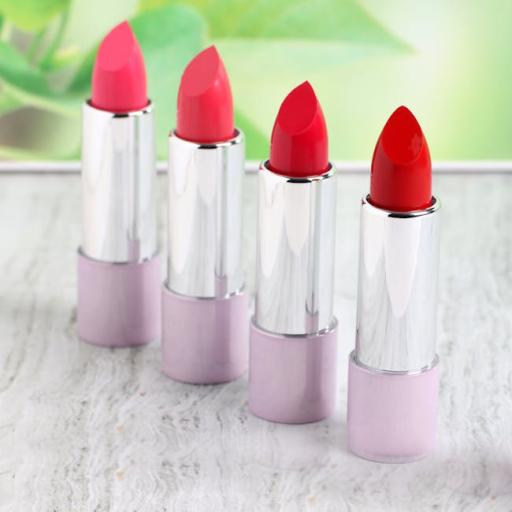lipstick: (348, 107, 439, 462), (249, 82, 337, 422), (163, 47, 248, 383), (78, 23, 160, 346)
